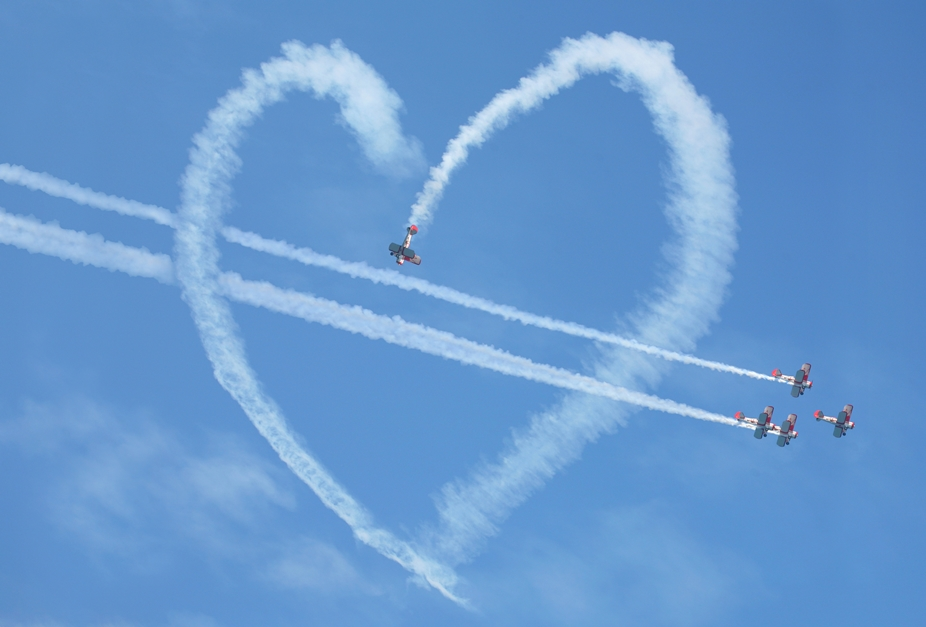plane: (381, 220, 426, 269), (770, 357, 817, 398), (810, 401, 858, 440), (735, 398, 772, 442), (771, 412, 798, 451)
